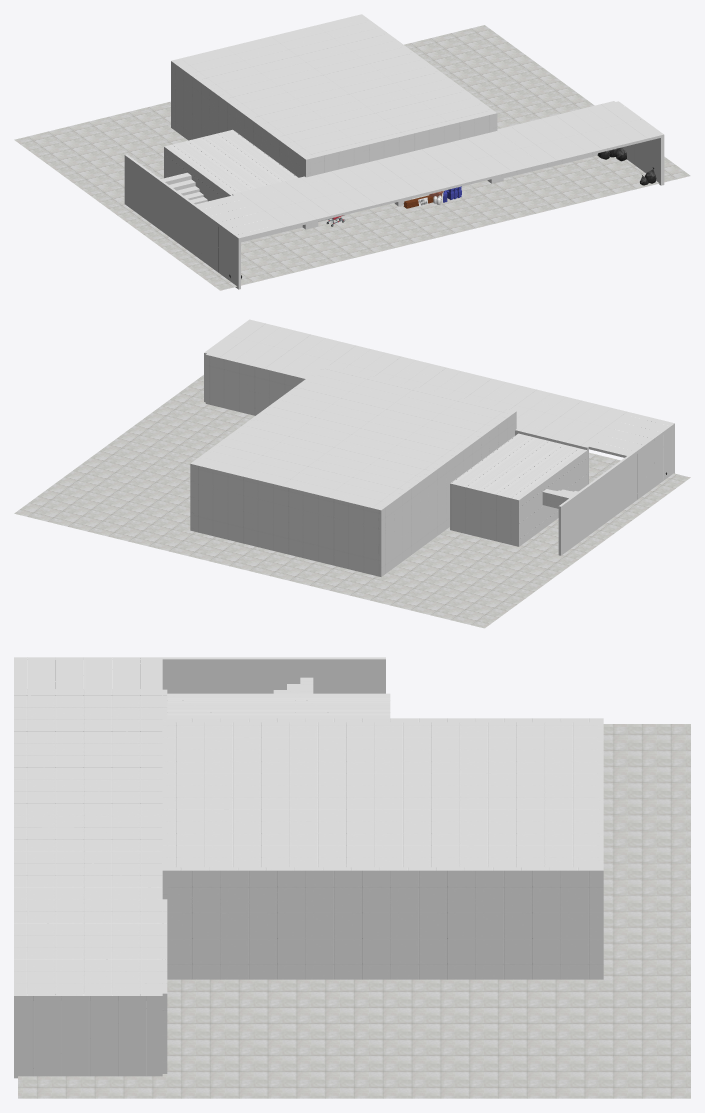
File: HardwareStore.glb
3 views of the same model, one above another, from view 1: azimuth 30°, elevation 25°; view 2: azimuth 150°, elevation 25°; view 3: azimuth 270°, elevation 25° (orthographic). The views are drawn at different scales.
Parts seen in each view (by area): view 1: Cube, Floor, Cube.026; view 2: Cube, Floor; view 3: Cube, Floor.
Part boxes in pixels (<box>): Cube: <box>124,14,664,289</box>; Floor: <box>14,25,690,290</box>; Cube.026: <box>161,172,203,199</box>; Cube: <box>190,319,674,576</box>; Floor: <box>14,375,690,628</box>; Cube: <box>14,657,603,1078</box>; Floor: <box>18,724,690,1098</box>.
Size of the model in its own units: 37.74 by 5.3 by 28.82.
Materials: 46 (28 with a texture image).
